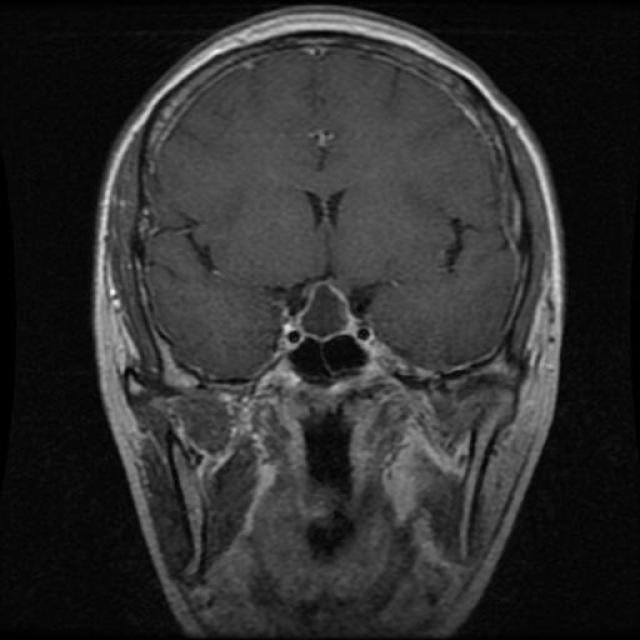pituitary: (271, 272, 386, 352)
